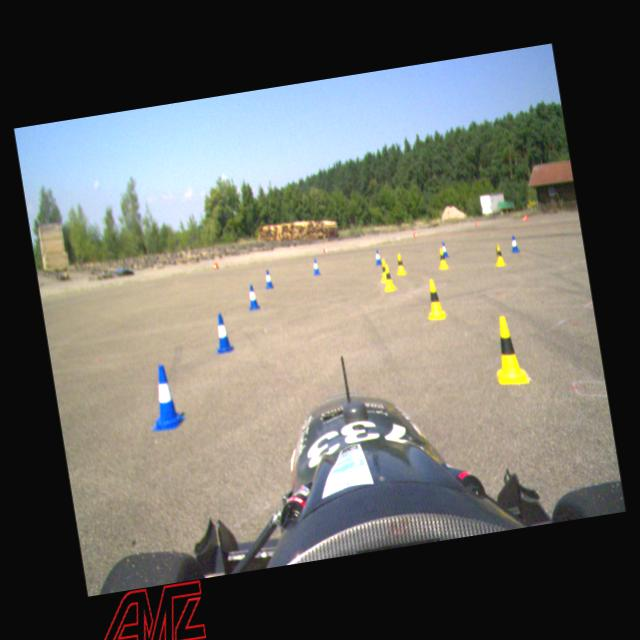blue_cone: (143, 362, 184, 432), (210, 312, 235, 354), (246, 284, 260, 312), (262, 267, 274, 290), (510, 234, 520, 253), (310, 256, 320, 274), (374, 249, 384, 266), (440, 242, 449, 258)
orange_cone: (212, 262, 219, 270), (521, 215, 529, 222), (323, 247, 328, 254), (413, 232, 418, 238), (475, 222, 479, 228)
yellow_cone: (487, 311, 528, 387), (424, 278, 446, 322), (381, 262, 396, 292), (378, 258, 392, 283), (493, 243, 506, 267), (394, 252, 408, 274), (438, 248, 448, 268)
